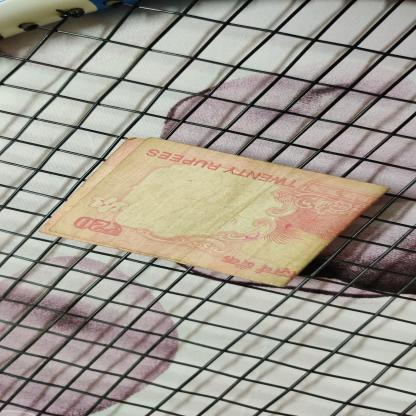Old20Back: (52, 144, 371, 281)
